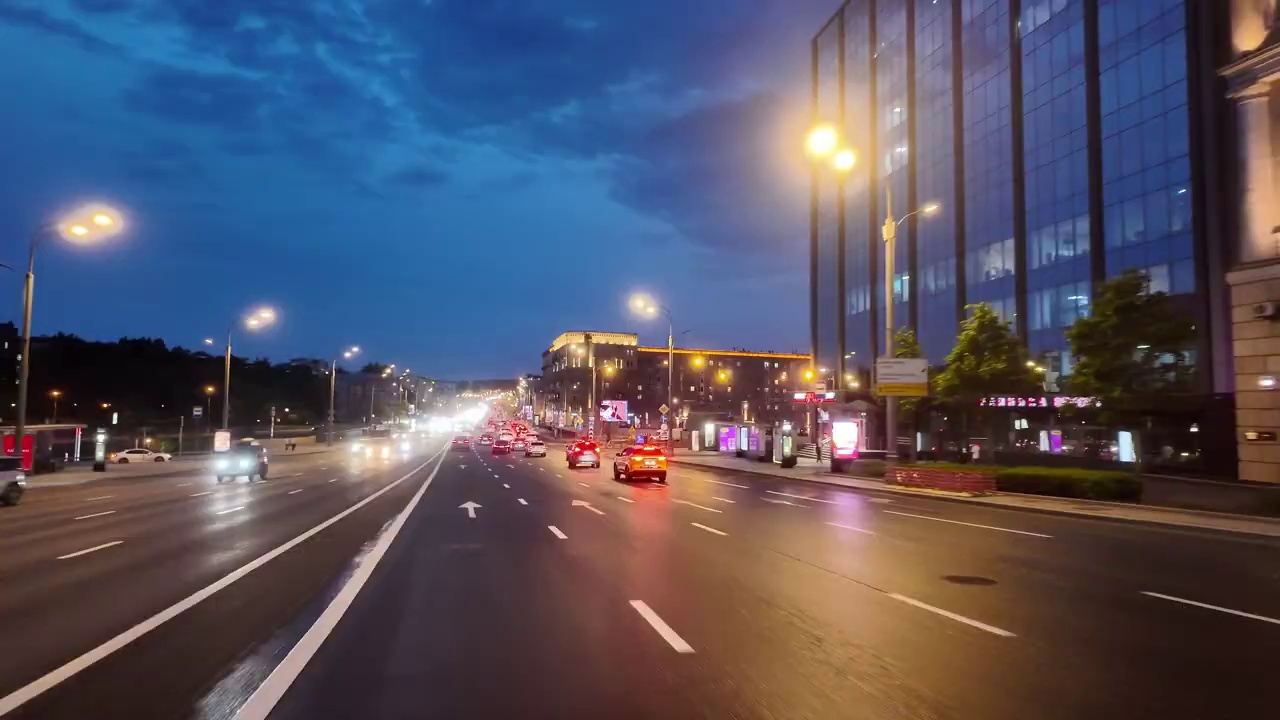acesa: (799, 117, 860, 176), (65, 207, 119, 241), (1233, 11, 1270, 53), (244, 304, 275, 331), (628, 293, 658, 318), (917, 200, 943, 222)
